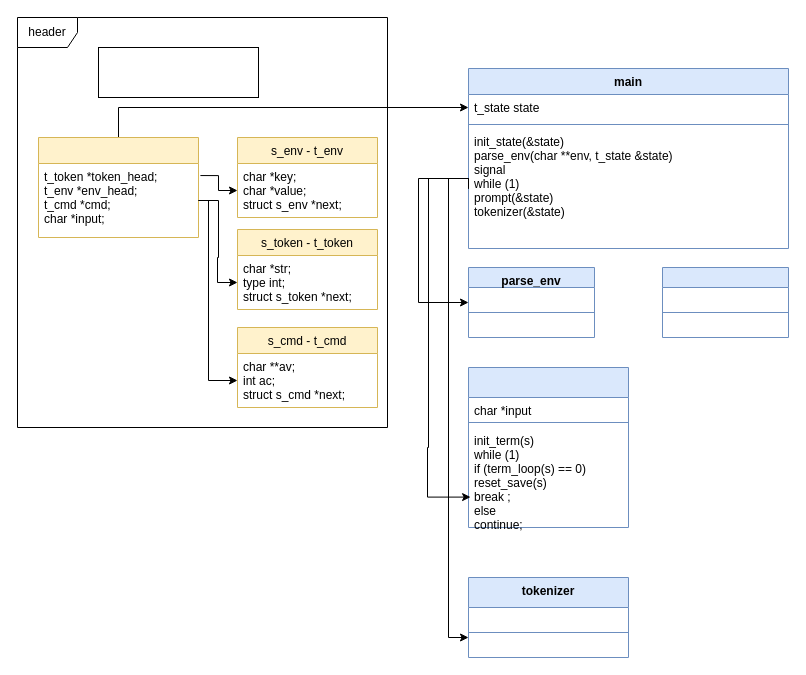
Some shapes in this 806 by 675 pixel diagram are drawn without their labels. Here are the shapes that lost their labels. From the top down, the box of each, then its label:
(98, 46, 258, 98): #define COMMON 1 #define OPERATE 2
(38, 136, 198, 238): s_state - t_state
(662, 266, 788, 338): handle_signal
(468, 366, 628, 528): prompt
